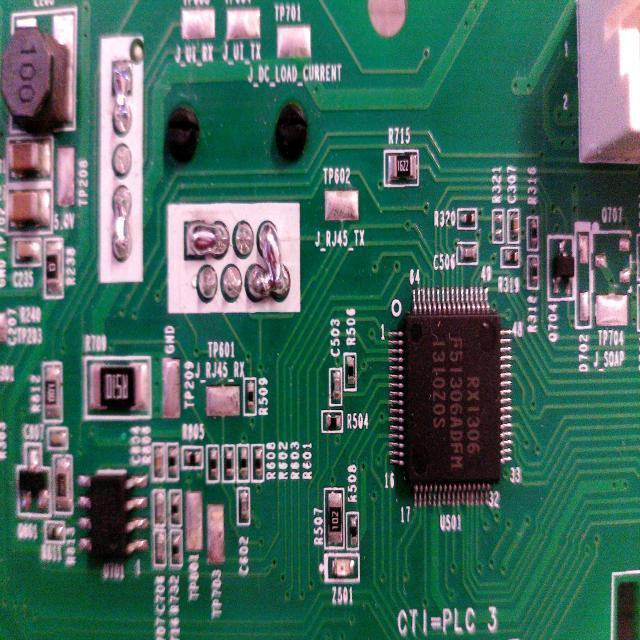Soldering shorted: (249, 210, 292, 304), (181, 214, 230, 264), (110, 59, 134, 140), (110, 180, 132, 264)
